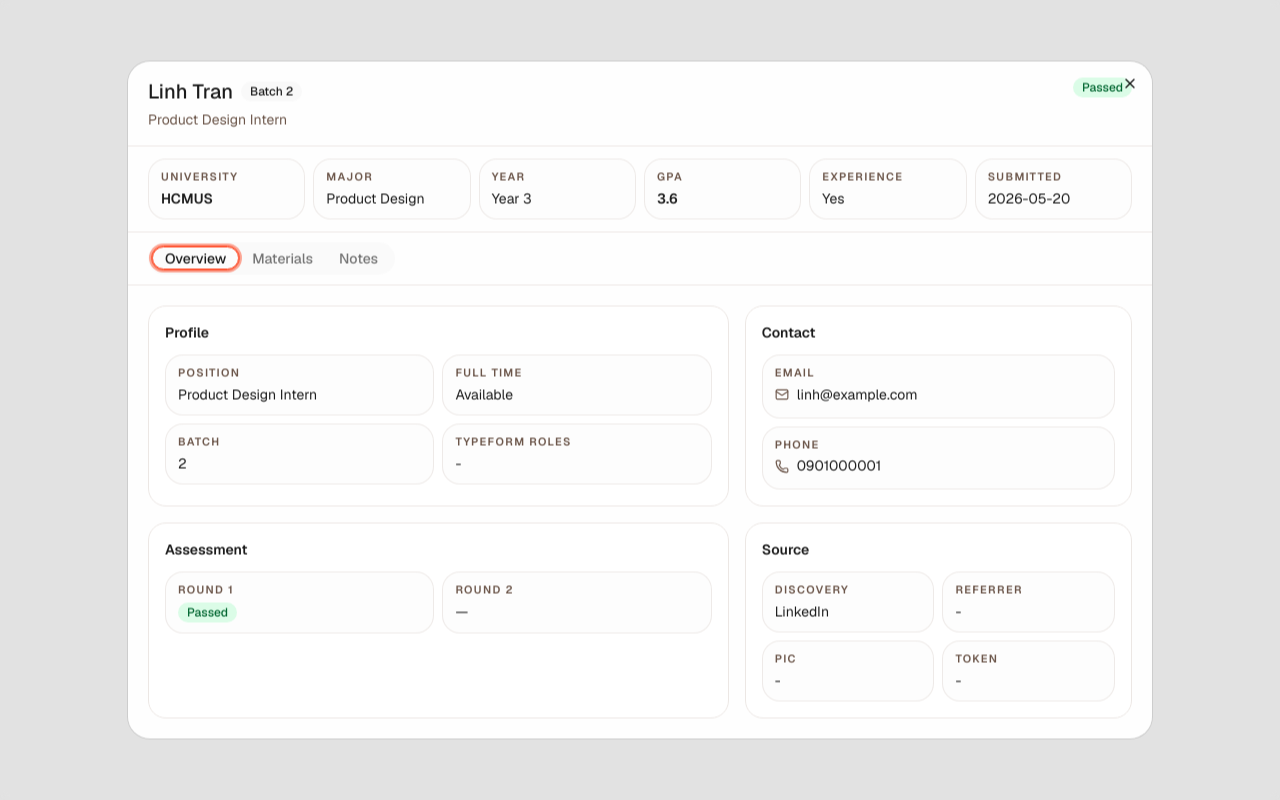
Test: ApplicantDetailDrawer › renders candidate detail inside a dialog
Expected: the heading "Linh Tran" is shown, [148,78,233,106]
Expected: the heading "Profile" is shown, [165,323,209,341]
Click the tab "Notes".
click(359, 258)  # box [326,247,391,270]
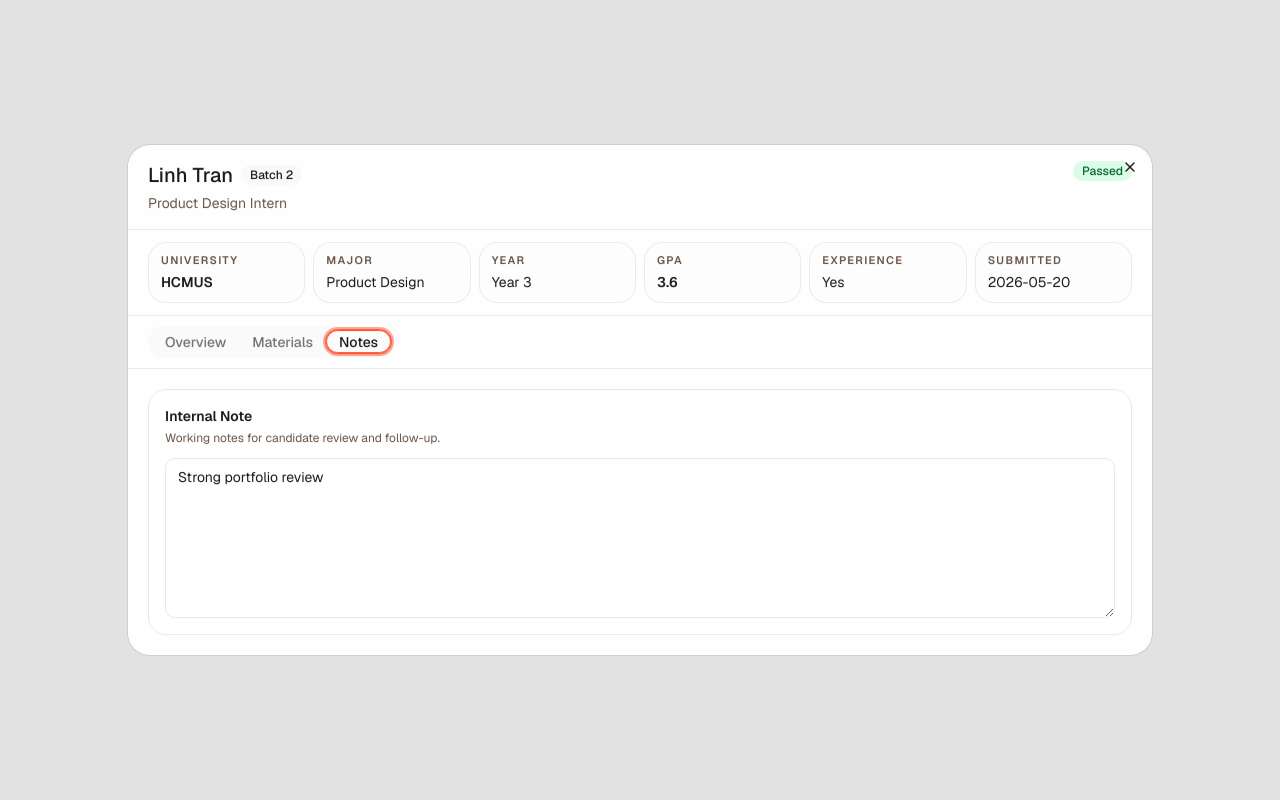
Expected: the text box showing "Strong portfolio review" is shown, [165,458,1115,618]
